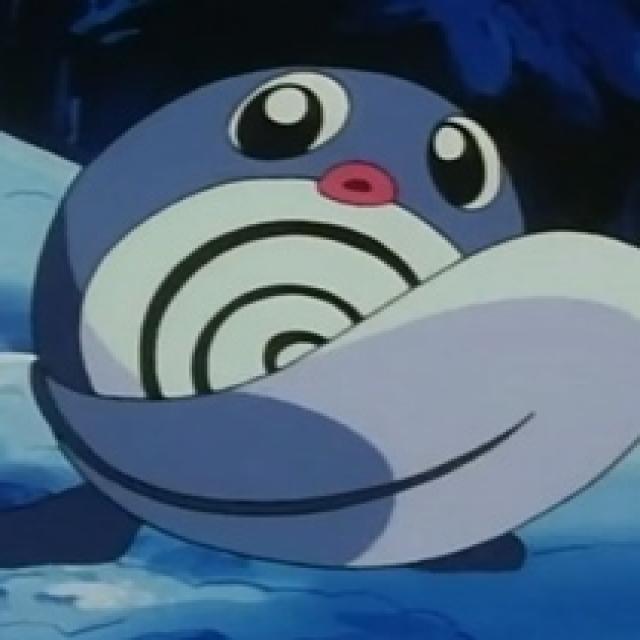Poliwag: (29, 65, 545, 548)
